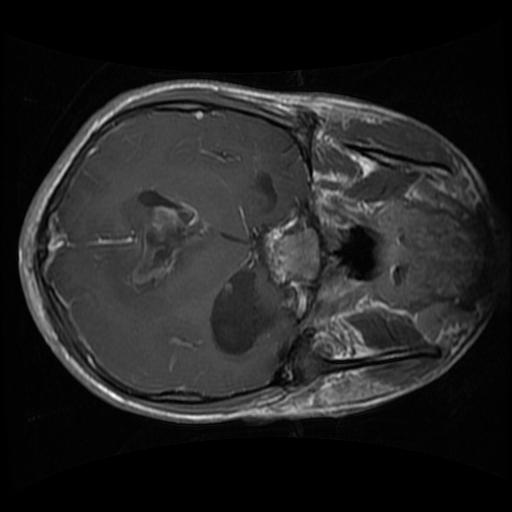glioma: (108, 187, 209, 303)
